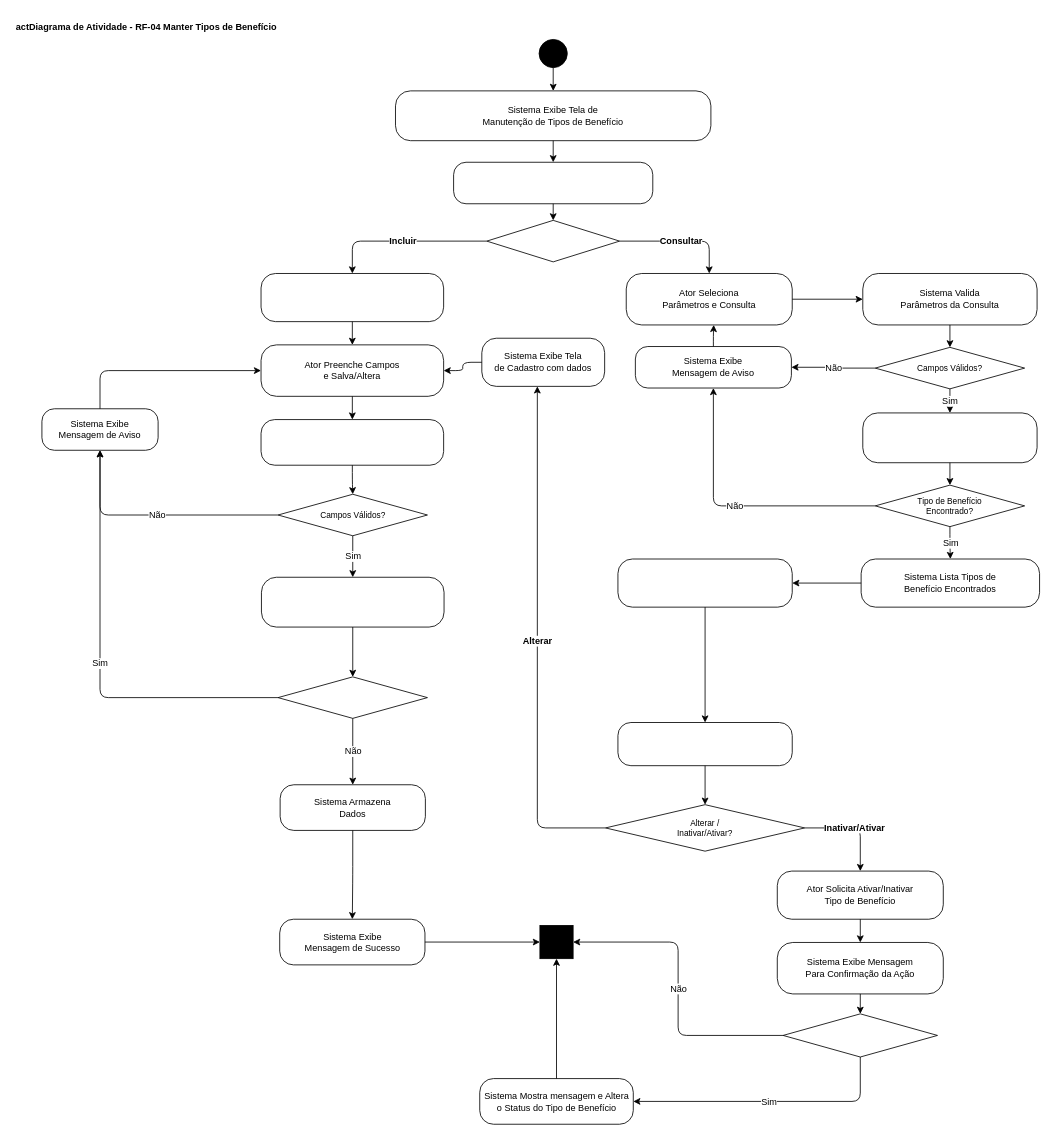
This 1054x1139 diagram has some shape labels left out. The box of each missing label's shape, as (x1, y1, x2, y2) in pixels:
Ator Escolhe Opção: (453, 161, 653, 204)
Ator seleciona a opção: (617, 722, 792, 766)
Ator seleciona o registro desejado na lista: (617, 558, 792, 607)
Deseja Ativar/Inativar Tipo de Benefício?: (782, 1013, 937, 1057)
Sistema Executa Consulta e verifica se há dados: (862, 412, 1037, 463)
Sistema Exibe Tela de Cadastro: (260, 273, 444, 322)
Sistema Valida Campos: (260, 419, 444, 465)
Sistema Verifica Existência do Tipo de Benefício: (261, 576, 444, 627)
Tipo de Benefício já existe?: (277, 676, 427, 718)
